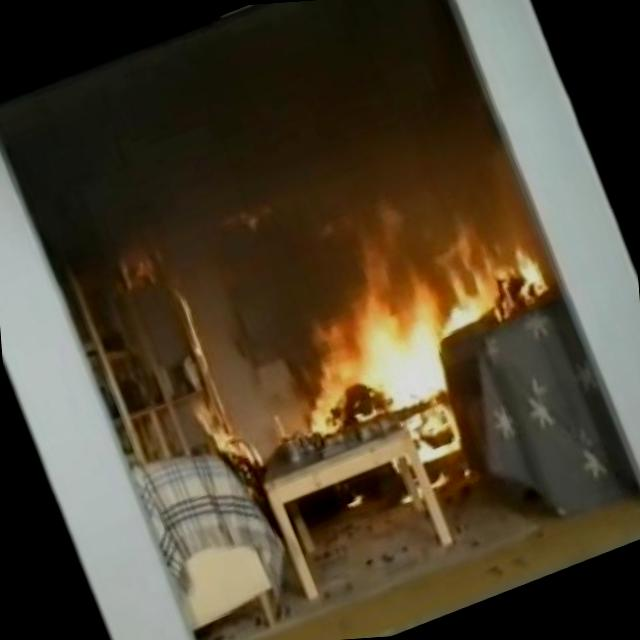fire: (274, 218, 576, 448)
